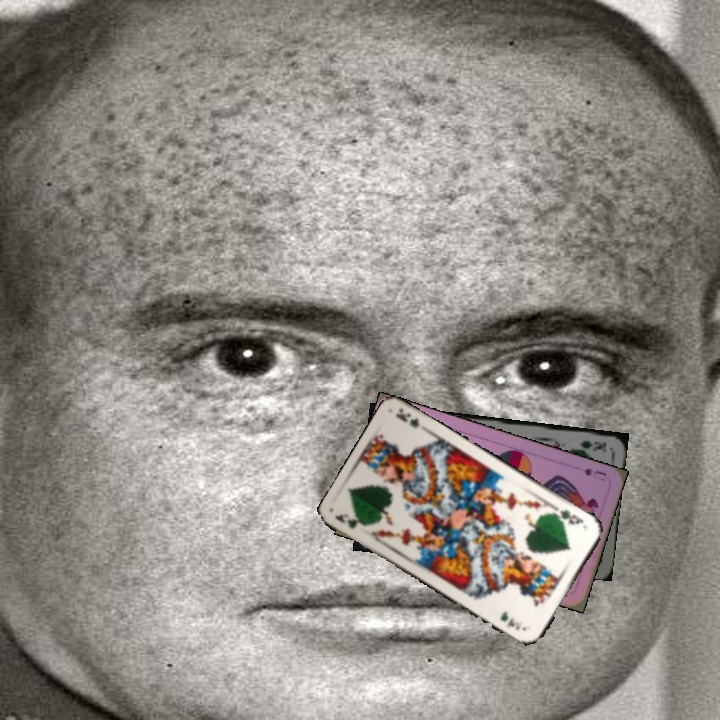GK: (331, 510, 368, 531), (552, 506, 587, 527), (576, 436, 609, 454)
SU: (580, 464, 609, 484)
